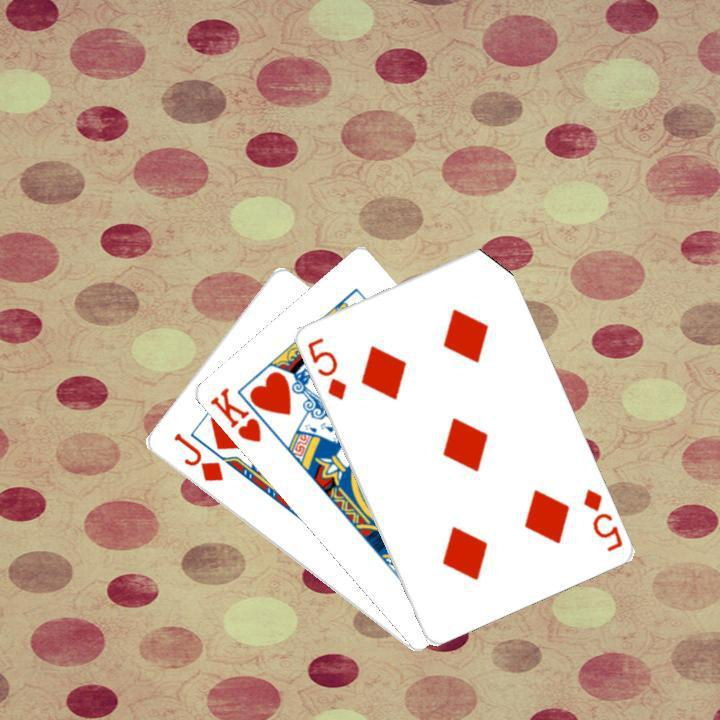5: (578, 484, 625, 554), (302, 333, 348, 402)
J: (168, 428, 225, 484)
K: (204, 383, 263, 445)
